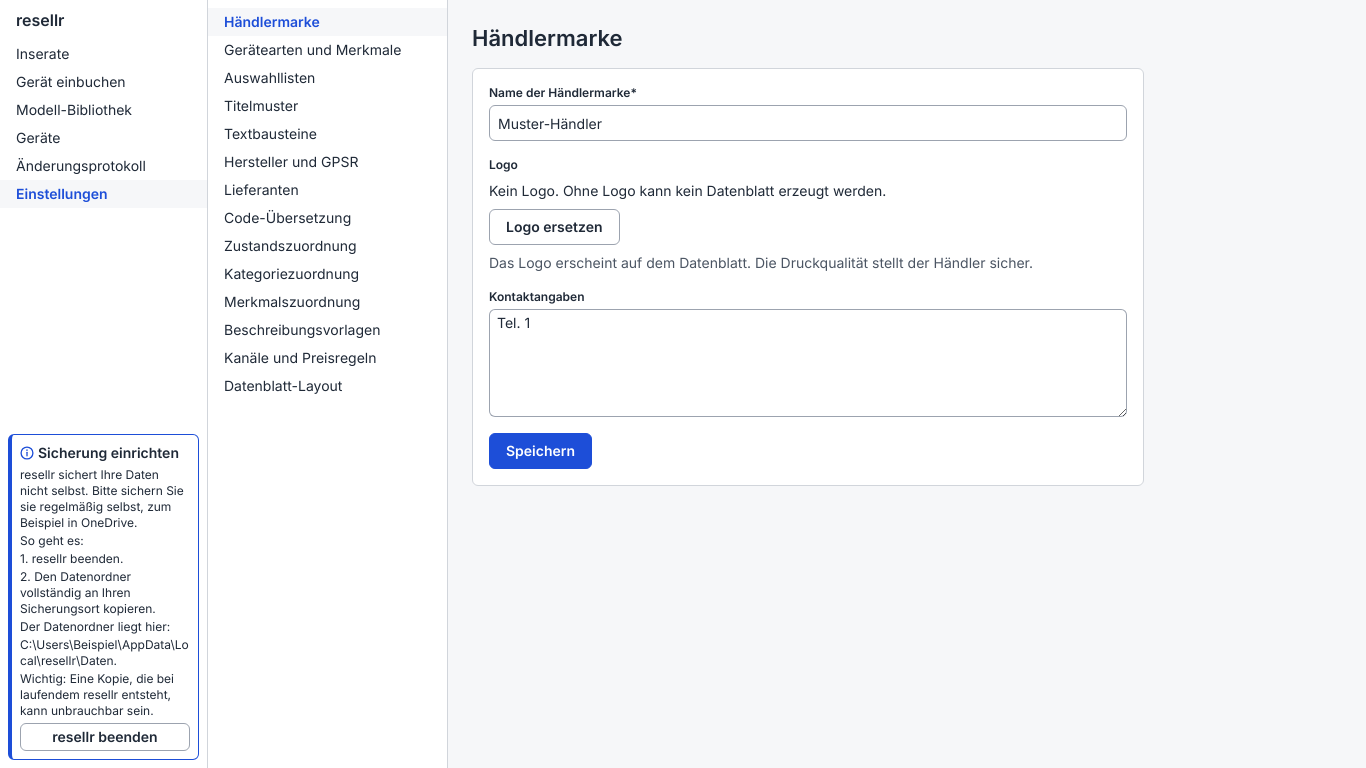
it: UI-026 merchant profile (CU-097) › UI-026.success DER-42-11 opens no dialog UI-043 and shows no counts after the save
The image size is (1366, 768).
Replace the text in the field labelled "Name der Händlermarke*" with "Demo-Händler" at (808, 123), box [489,105,1127,141]
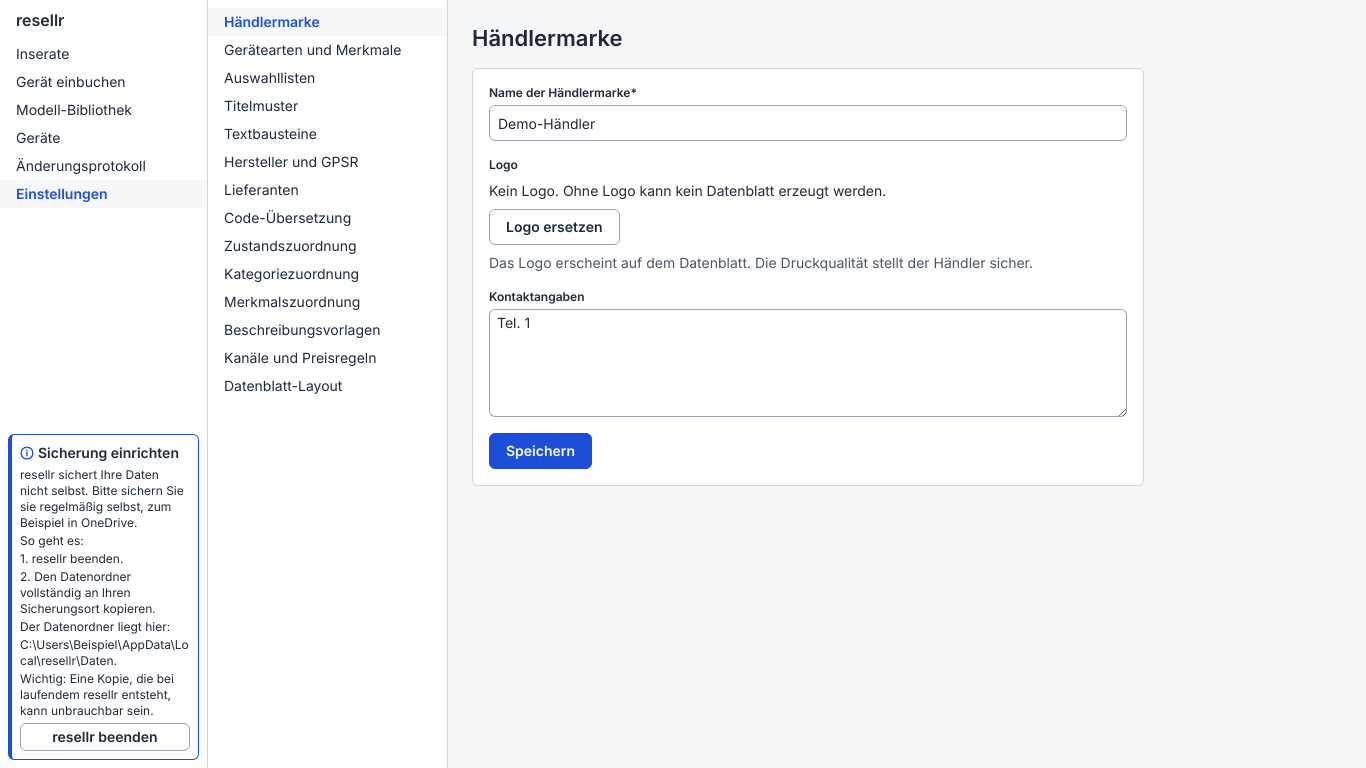
Click the button "Speichern" at (541, 451), box [489,433,592,469]
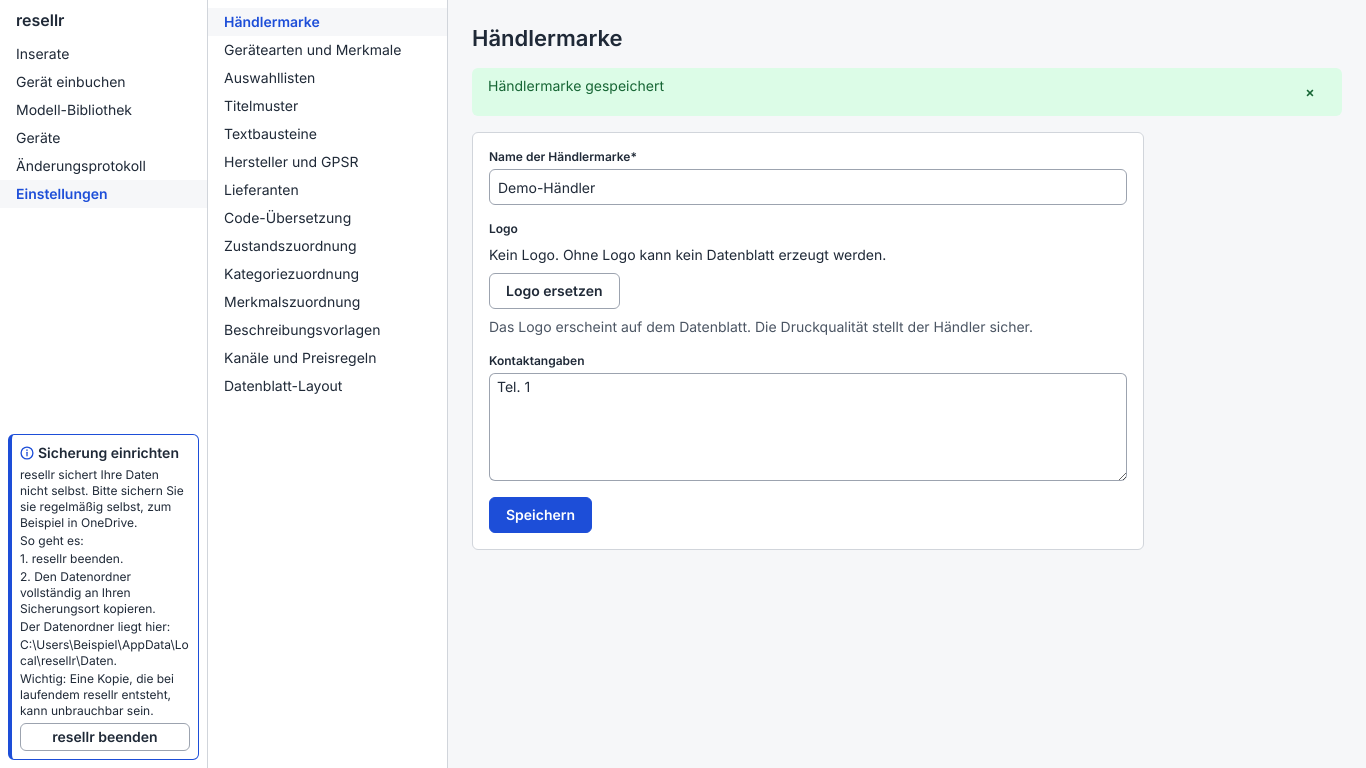
Expected: the text "Händlermarke gespeichert" is shown, [488,77,664,94]
